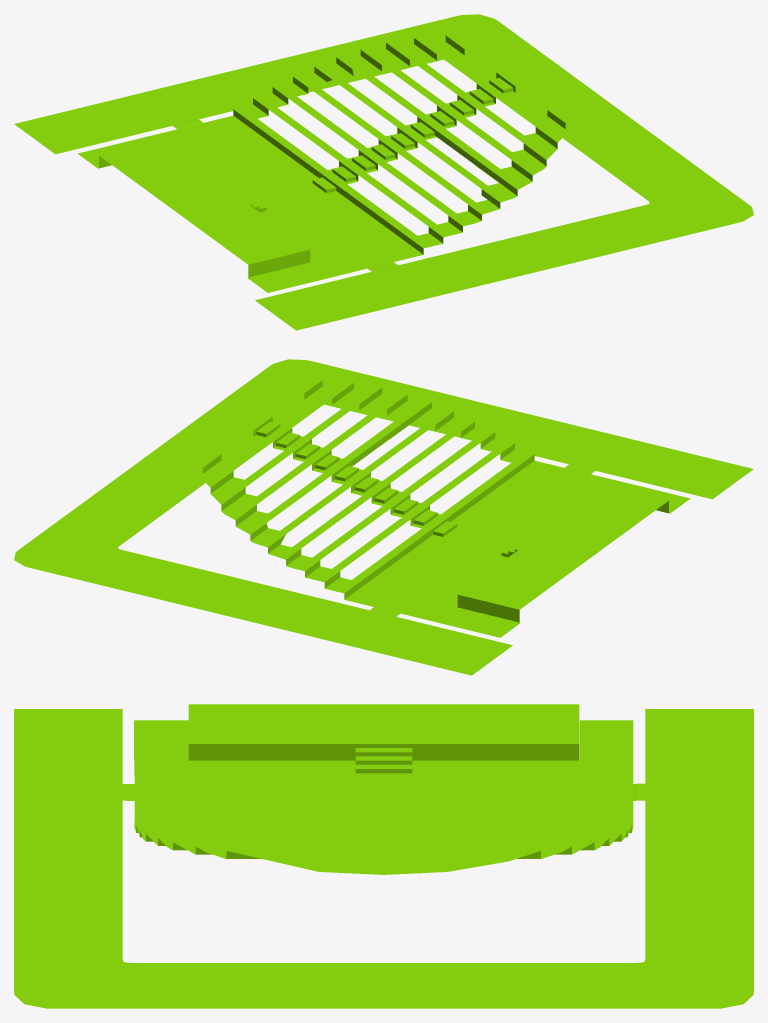
File: Walkable.fbx
3 views of the same model, one above another, from view 1: azimuth 30°, elevation 25°; view 2: azimuth 150°, elevation 25°; view 3: azimuth 270°, elevation 25° (orthographic). The views are drawn at different scales.
Visible parts, largest first — view 1: Walkable; view 2: Walkable; view 3: Walkable.
Part boxes in pixels (<box>): Walkable: <box>14,14,753,330</box>; Walkable: <box>14,359,753,675</box>; Walkable: <box>14,704,753,1008</box>.
Size of the model in its own units: 2737 by 351 by 2855.
